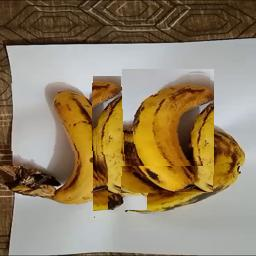Banana Semifresh: (8, 83, 118, 206), (122, 70, 214, 195), (94, 77, 150, 212), (108, 167, 246, 214)
